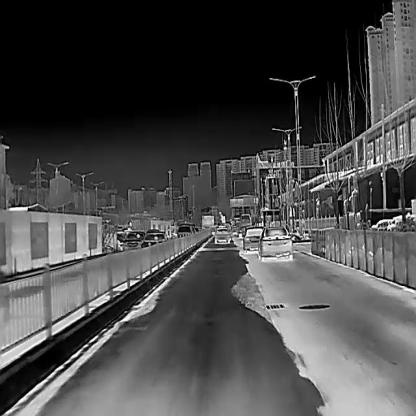car: (258, 226, 293, 260), (243, 227, 266, 250), (142, 230, 167, 249), (124, 231, 145, 250), (214, 226, 231, 245), (176, 225, 192, 237), (238, 212, 251, 224)
